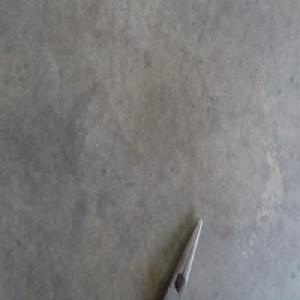Pliers: (163, 217, 202, 298)
